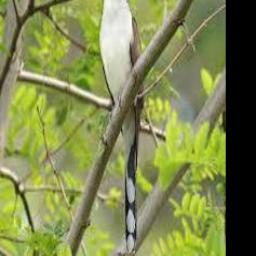Cuckoo: (97, 0, 144, 253)
